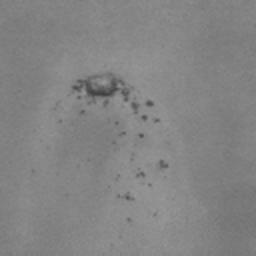Iron sheet ash: (72, 72, 131, 108), (129, 102, 142, 116), (134, 172, 147, 178), (160, 160, 168, 169), (124, 193, 132, 202), (152, 116, 161, 123), (146, 101, 154, 108), (138, 133, 145, 140)
